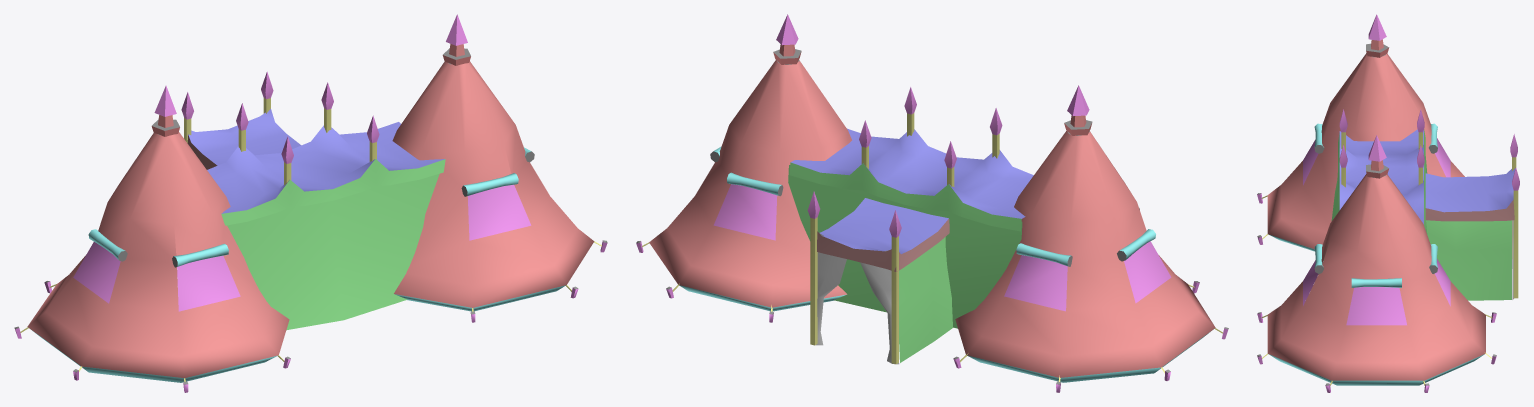
The model's file is Manor_DarkElf.gltf.
The picture shows the model from 3 angles, left to right: view 1: azimuth 30°, elevation 25°; view 2: azimuth 150°, elevation 25°; view 3: azimuth 270°, elevation 25°; orthographic projection. The views are drawn at different scales.
Parts seen in each view (by area): view 1: Manor_DarkElf; view 2: Manor_DarkElf; view 3: Manor_DarkElf.
Part boxes in pixels (x1,y1,x2,y2): Manor_DarkElf: [14, 14, 607, 392]; Manor_DarkElf: [636, 14, 1228, 392]; Manor_DarkElf: [1257, 14, 1519, 392].
Bounding box in the file's own units: 4.75 × 2.09 × 2.38.
